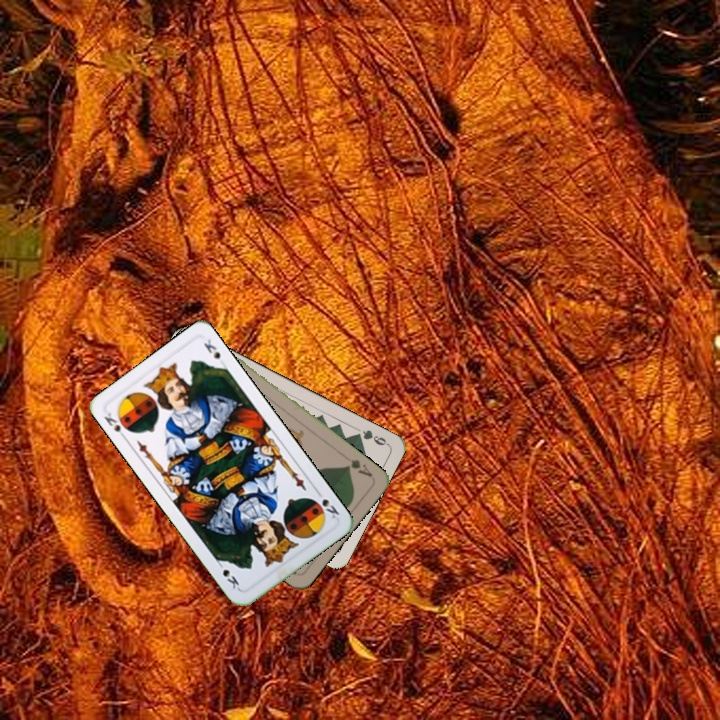G9: (350, 425, 391, 448)
GA: (340, 452, 375, 480)
SK: (100, 408, 134, 443), (309, 486, 342, 521)
